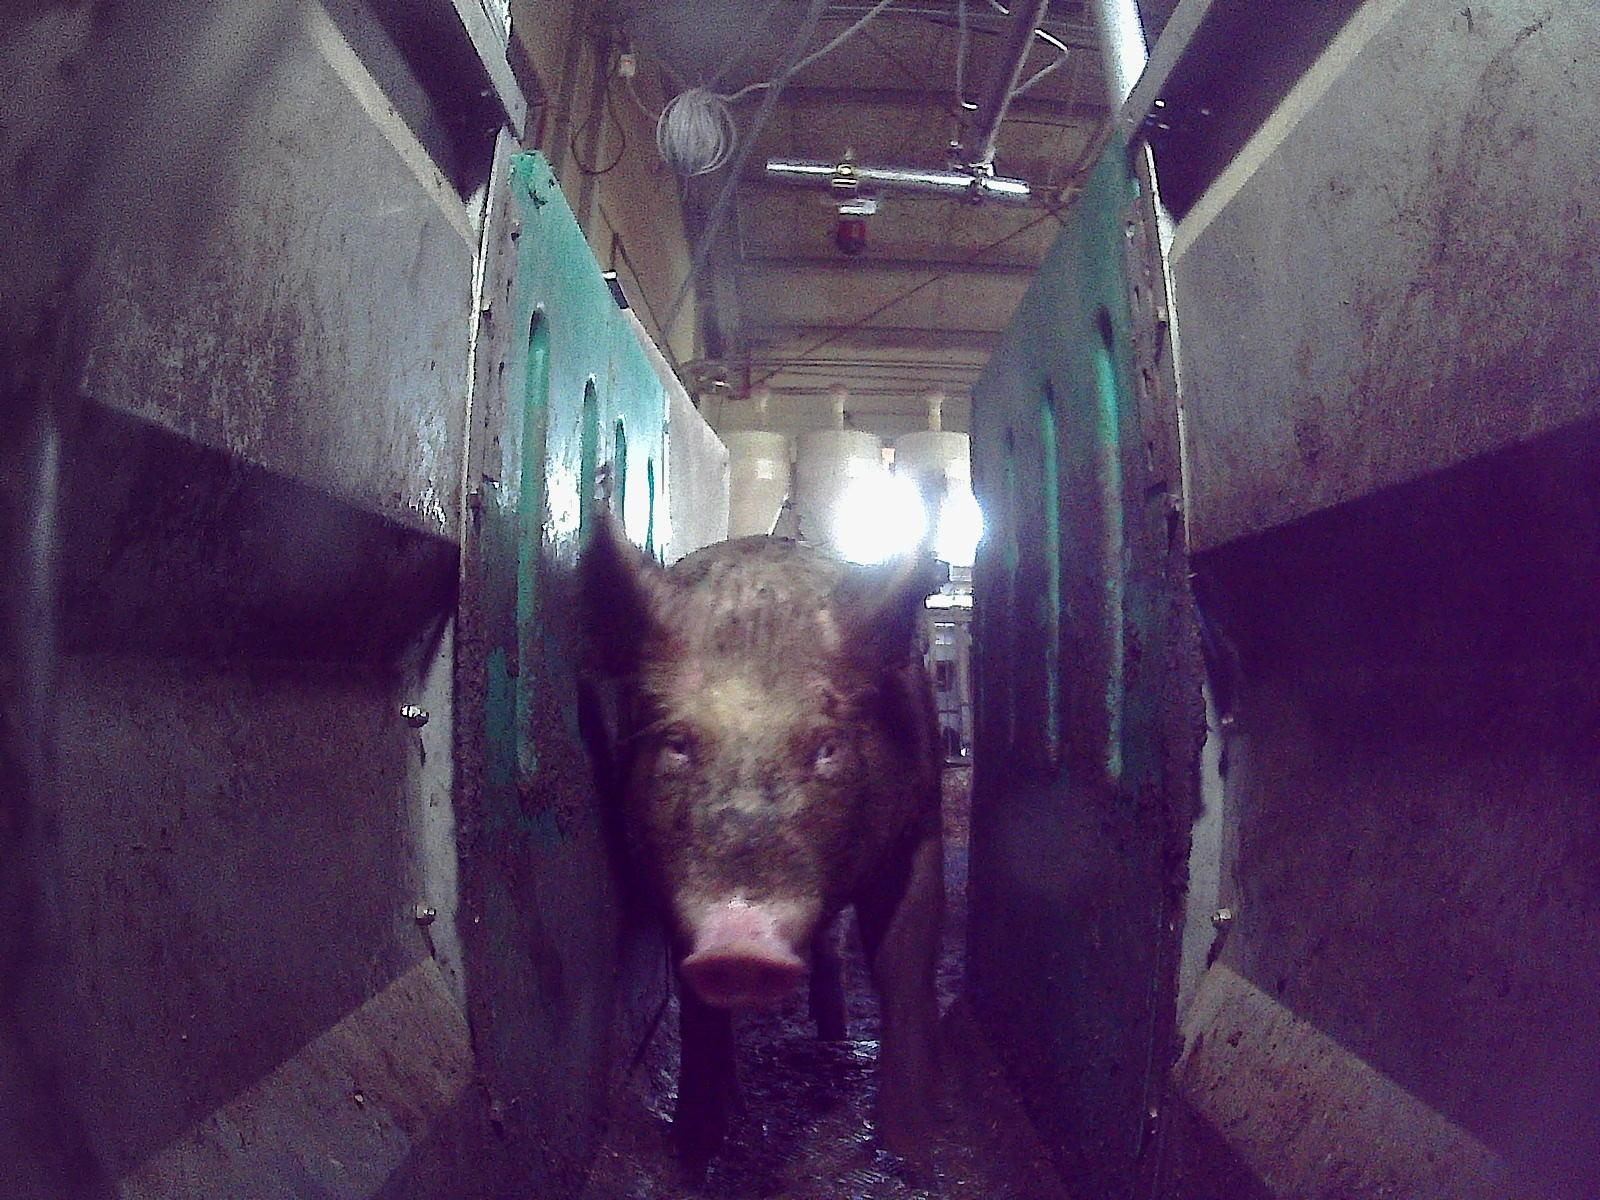Face: (626, 591, 859, 1004)
